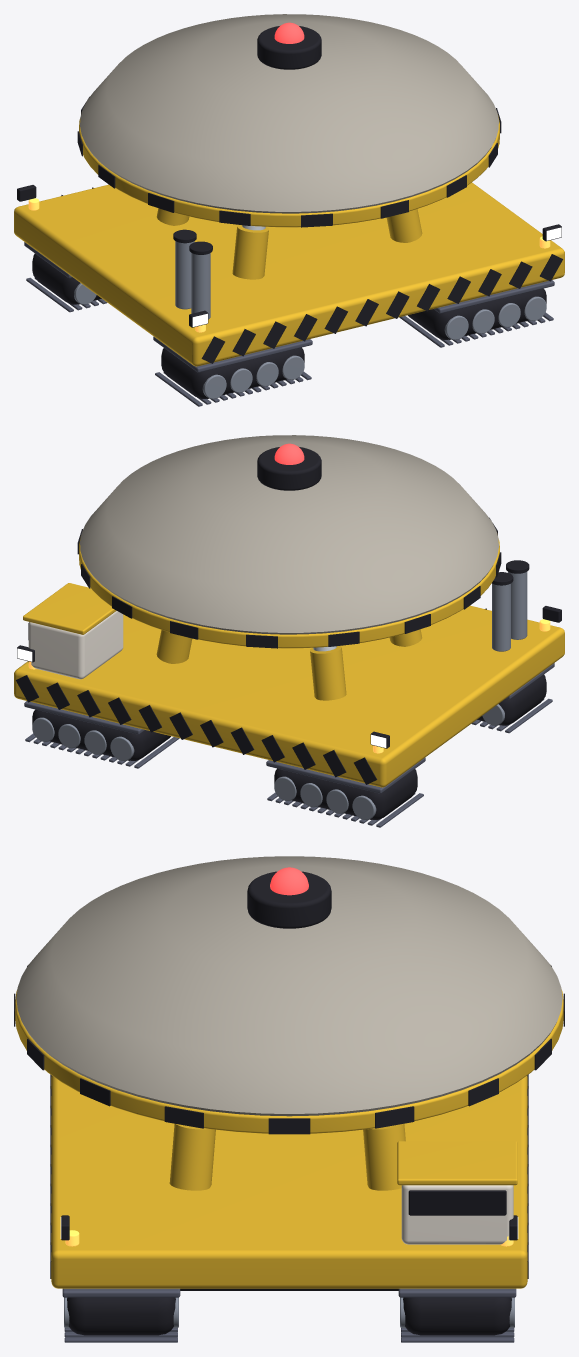
File: capper.glb
The picture shows the model from 3 angles, top to bottom: view 1: azimuth 30°, elevation 25°; view 2: azimuth 150°, elevation 25°; view 3: azimuth 270°, elevation 25°; orthographic projection. The views are drawn at different scales.
Visible parts, largest first — view 1: capper; view 2: capper; view 3: capper.
Boxes of the visible parts, x1,y1,x2,y2 form: capper: (14,14,564,406); capper: (14,435,564,827); capper: (14,856,564,1342).
Size of the model in its own units: 40 by 28.4 by 39.34.
1 material, 1 textured.
